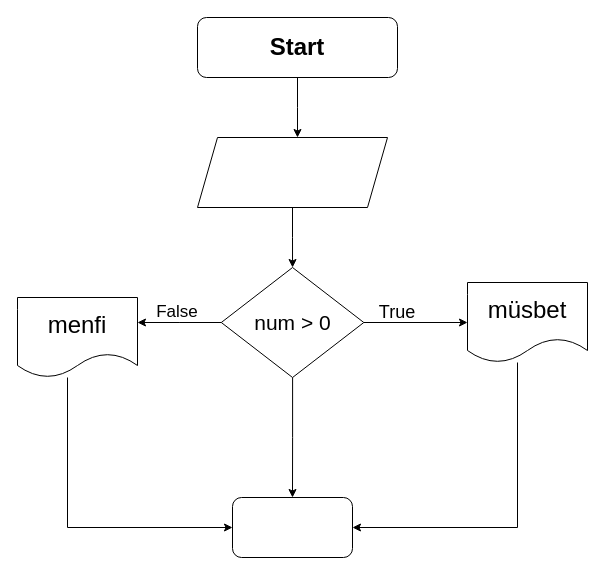
Some shapes in this 605 by 575 pixel diagram are drawn without their labels. Each missing label, with the box of its shape:
END: (232, 496, 352, 558)
int num = 7;: (196, 136, 388, 208)
